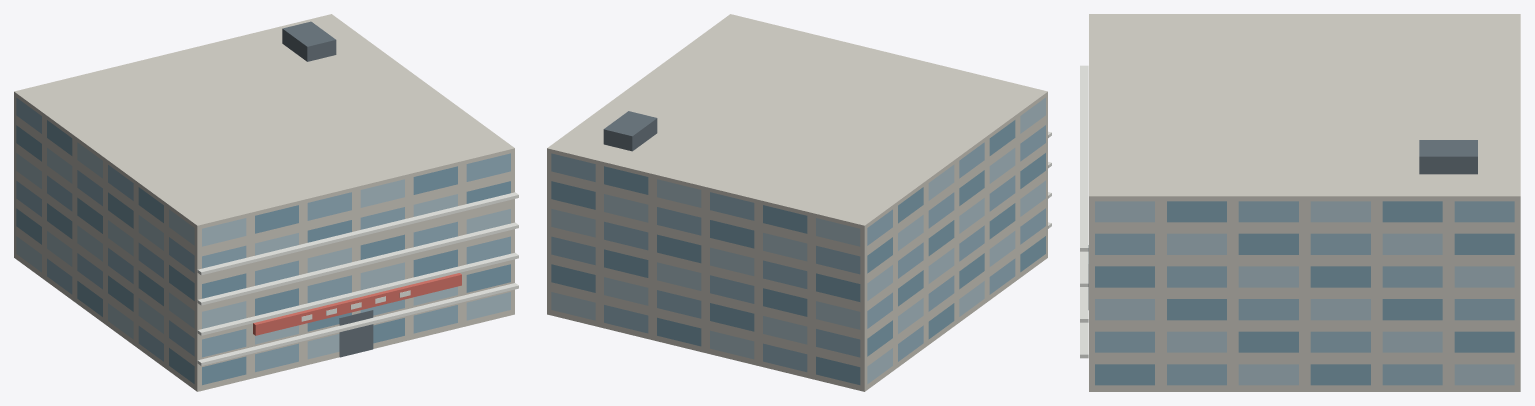
Rendered from korea-building-3.glb.
3 renders of one model, left to right at view 1: azimuth 30°, elevation 25°; view 2: azimuth 150°, elevation 25°; view 3: azimuth 270°, elevation 25°, orthographic. The views are drawn at different scales.
Bounding box in the file's own units: 11.02 × 6 × 11.24.
